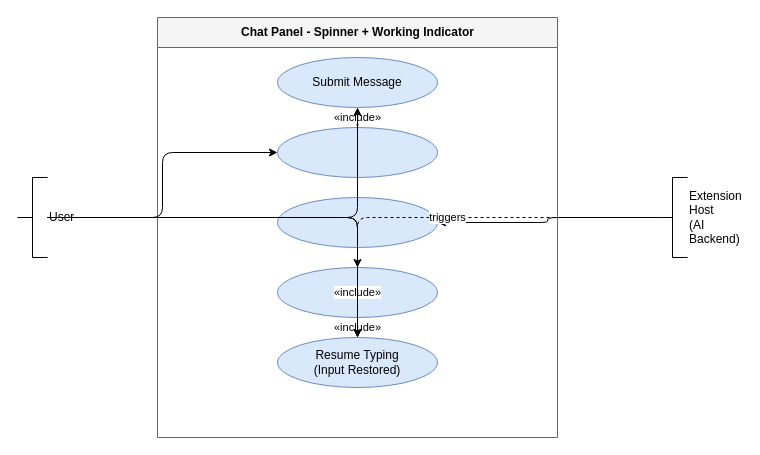
Image size: 760x455. Some labels were removed from this diagram. Here are the shapes that lost their labels. From the top down, the box of each, then its label:
(276, 126, 438, 178): View Spinner + Working Text
(276, 196, 438, 248): Wait for AI Response
(276, 266, 438, 318): Click Stop Button (Cancel)
